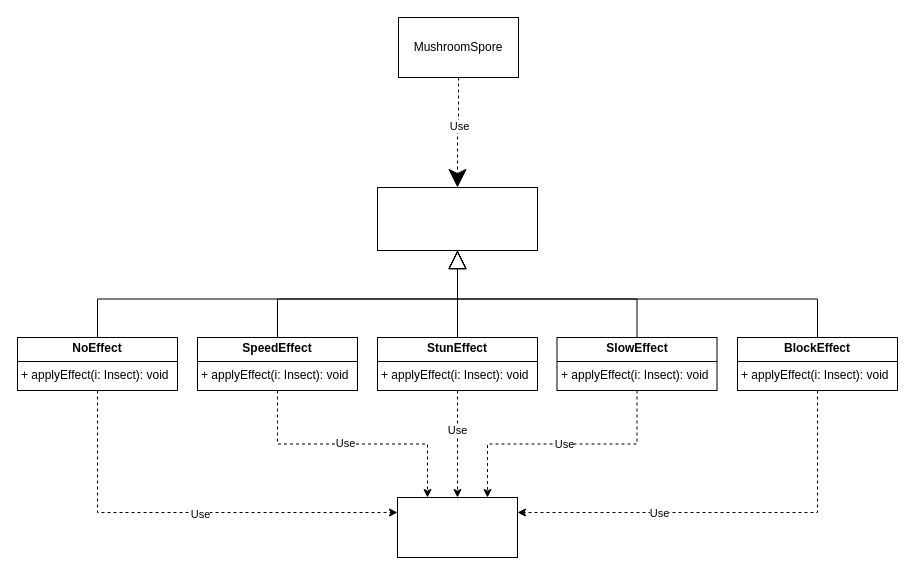
Some shapes in this 915 by 575 pixel diagram are drawn without their labels. Here are the shapes that lost their labels. From the top down, the centre of each, then its label:
At (x=457, y=218): "<<interface>> Effect + applyEffect(i: Insect): void".
At (x=457, y=527): "Insect".
